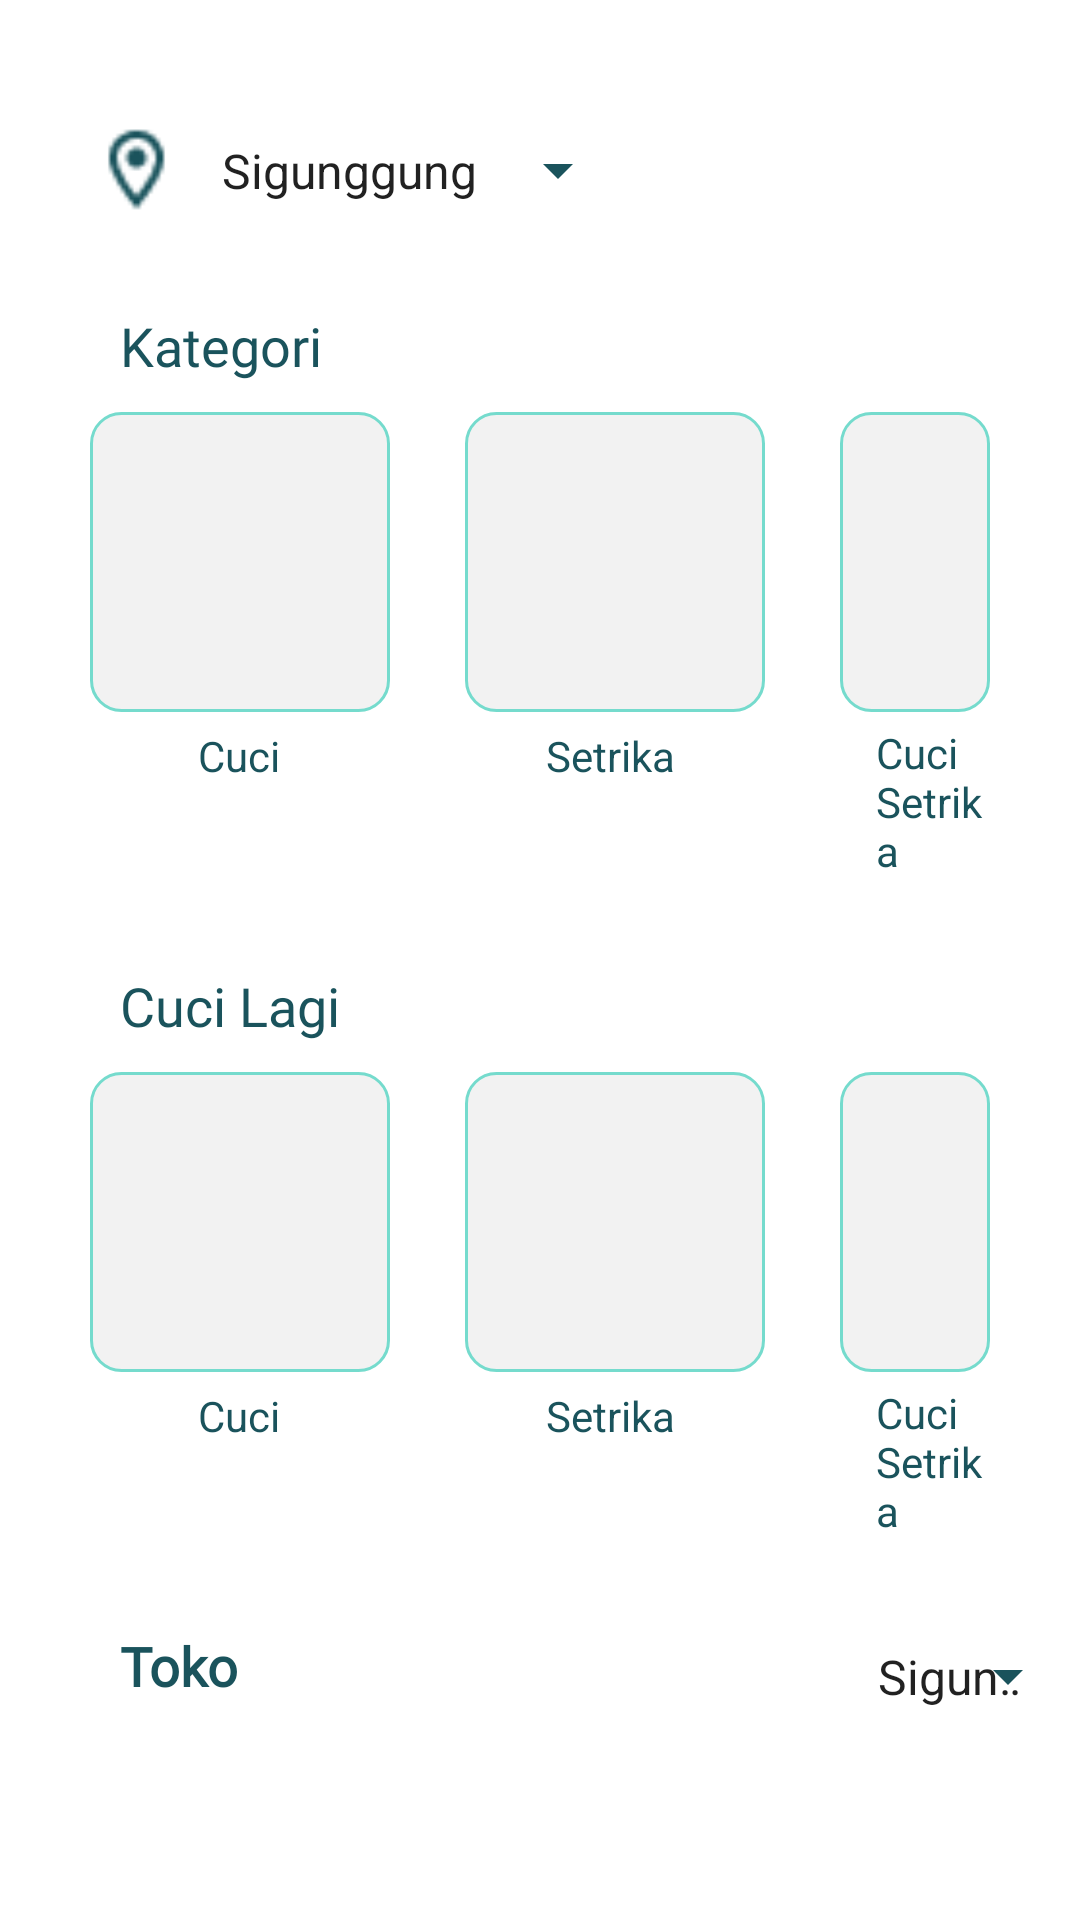

Screen size 1080px×1920px. Icon name, then its center in pixels as [x,y]:
pin maps: [136,169]
